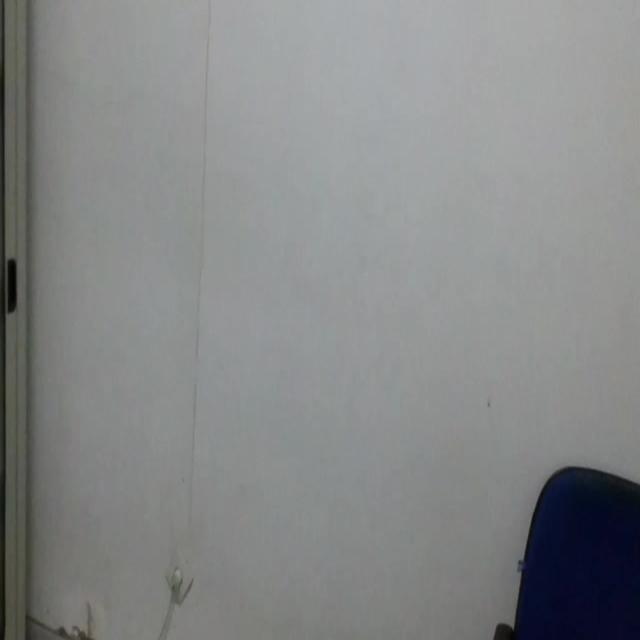Crack: (182, 0, 212, 520)
